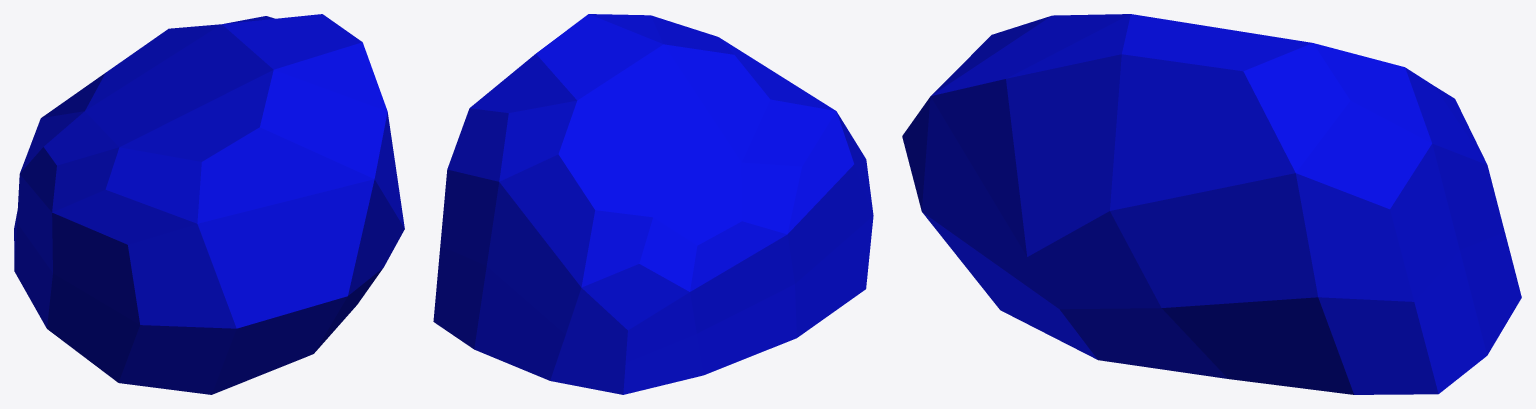
Rendered from SM_Small_RoundStone1.fbx.
3 views of the same model, side by side, from view 1: azimuth 30°, elevation 25°; view 2: azimuth 150°, elevation 25°; view 3: azimuth 270°, elevation 25° (orthographic). The views are drawn at different scales.
Visible parts, largest first — view 1: SM_Small_RoundStone1; view 2: SM_Small_RoundStone1; view 3: SM_Small_RoundStone1.
Part boxes in pixels (bbox=[...]): SM_Small_RoundStone1: bbox=[14, 14, 404, 394]; SM_Small_RoundStone1: bbox=[433, 14, 873, 394]; SM_Small_RoundStone1: bbox=[902, 14, 1521, 394].
Size of the model in its own units: 107 by 74.97 by 133.
